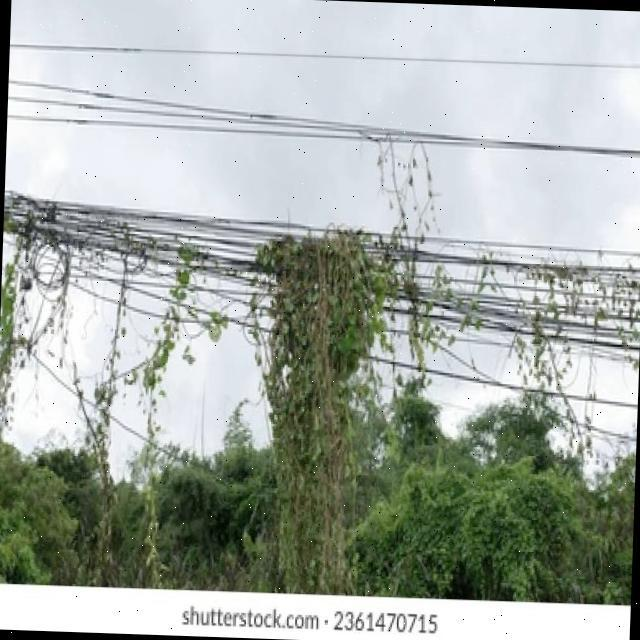critical vegetation: (66, 150, 524, 436)
